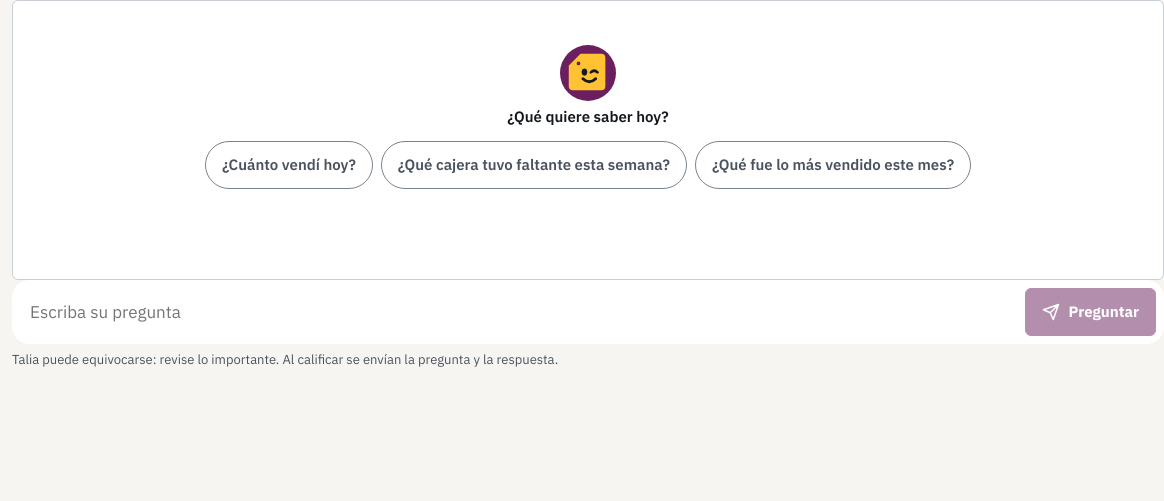
it: TK-340: Cancelar posts cancel and closes the card
Click the button "¿Cuánto vendí hoy?".
click(289, 164)  # box [205,140,373,188]
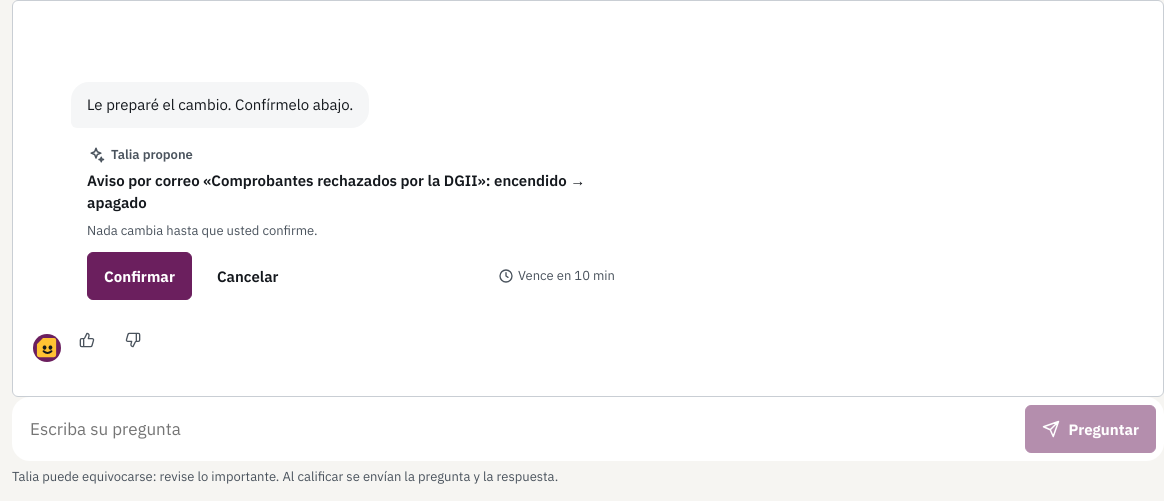
Click the button "Cancelar".
click(248, 276)  # box [200,252,295,300]
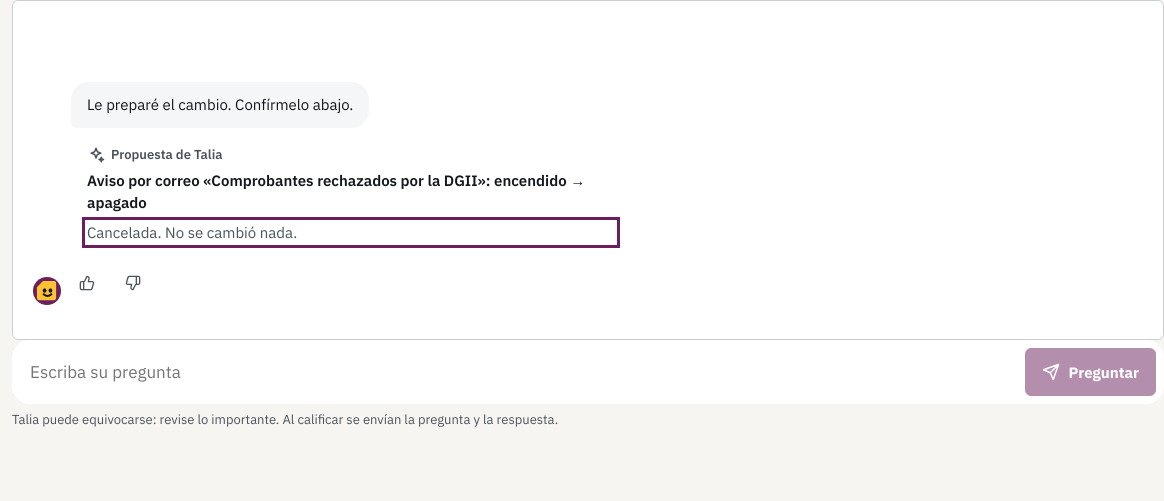
Now the message reads "Cancelada. No se cambió nada.", box [87,222,297,242]
Now the button "Confirmar" is gone
